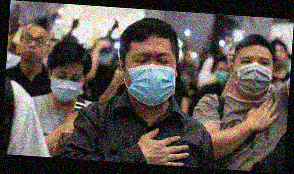with_mask: (124, 48, 175, 105), (231, 52, 273, 97), (48, 68, 84, 104), (99, 51, 115, 68), (215, 65, 229, 83)
without_mask: (19, 31, 47, 62), (272, 46, 288, 69)
